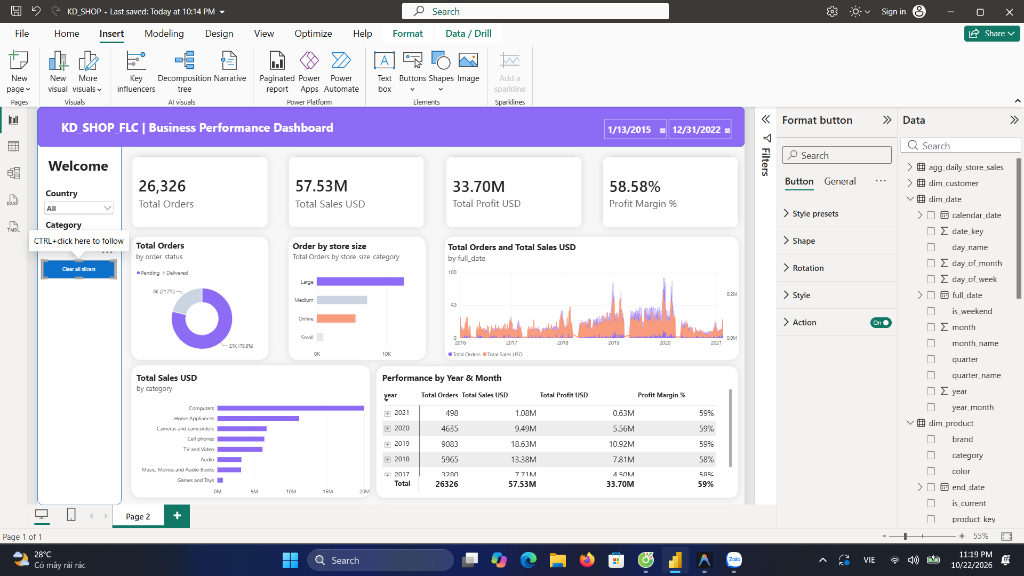

The page's visual inventory and layout, read from the dashboard file:
{"tool":"powerbi","page":{"name":"Business Performance","canvas":[1920,1080],"ordinal":0},"visuals":[{"type":"shape","box":[0,0,228.5,1080.6],"z":0},{"type":"shape","box":[0,0,1920.4,109.1],"z":1000},{"type":"cardVisual","fields":{"Data":["fact_sales.Total Orders"]},"box":[256,134,372,196],"z":2000},{"type":"cardVisual","fields":{"Data":["fact_sales.Total Sales USD"]},"box":[681.3,134,372,196],"z":3000},{"type":"cardVisual","fields":{"Data":["fact_sales.Total Profit USD"]},"box":[1106.7,134,372,196],"z":4000},{"type":"cardVisual","fields":{"Data":["fact_sales.Profit Margin %"]},"box":[1532,134,372,196],"z":5000},{"type":"donutChart","fields":{"Category":["fact_sales.order_status"],"Y":["fact_sales.Total Orders"]},"box":[256,352,372,334],"z":6000},{"type":"clusteredBarChart","title":"Order by store size","fields":{"Category":["dim_store.store_size_category"],"Y":["fact_sales.Total Orders"]},"box":[682,352,372,334],"z":7000},{"type":"lineClusteredColumnComboChart","fields":{"Category":["dim_date.full_date"],"Y":["fact_sales.Total Orders"],"Y2":["fact_sales.Total Sales USD"]},"box":[1106,352,798,334],"z":8000},{"type":"clusteredBarChart","fields":{"Category":["dim_product.category"],"Y":["fact_sales.Total Sales USD"]},"box":[256,702,648,358],"z":9000},{"type":"pivotTable","title":"Performance by Year & Month","fields":{"Rows":["dim_date.year","dim_date.month"],"Values":["fact_sales.Total Orders","fact_sales.Total Sales USD","fact_sales.Total Profit USD","fact_sales.Profit Margin %"]},"box":[920,704,984,358],"z":10000},{"type":"textbox","box":[14.3,134.6,214.1,65.2],"z":11000},{"type":"slicer","fields":{"Values":["dim_product.category"]},"box":[14.5,304,197.7,99.9],"z":12000},{"type":"slicer","fields":{"Values":["dim_store.country"]},"box":[14.5,219,197.3,97.7],"z":13000},{"type":"slicer","fields":{"Values":["dim_date.full_date"]},"box":[1531,28.5,371,81.5],"z":14000},{"type":"actionButton","box":[10.9,403.6,200,50],"z":15000}]}

Visuals, with their boxes on the page's 1920x1080 design canvas (x1, y1, x2, y2). These are canvas units, not pixel positions in the 1024x576 screenshot, which may show the page scaled, cropped or inside an application window:
shape: <region>0, 0, 228, 1081</region>
shape: <region>0, 0, 1920, 109</region>
cardVisual - fact_sales.Total Orders: <region>256, 134, 628, 330</region>
cardVisual - fact_sales.Total Sales USD: <region>681, 134, 1053, 330</region>
cardVisual - fact_sales.Total Profit USD: <region>1107, 134, 1479, 330</region>
cardVisual - fact_sales.Profit Margin %: <region>1532, 134, 1904, 330</region>
donutChart - fact_sales.order_status x fact_sales.Total Orders: <region>256, 352, 628, 686</region>
"Order by store size" clusteredBarChart: <region>682, 352, 1054, 686</region>
lineClusteredColumnComboChart - dim_date.full_date x fact_sales.Total Orders: <region>1106, 352, 1904, 686</region>
clusteredBarChart - dim_product.category x fact_sales.Total Sales USD: <region>256, 702, 904, 1060</region>
"Performance by Year & Month" pivotTable: <region>920, 704, 1904, 1062</region>
textbox: <region>14, 135, 228, 200</region>
slicer - dim_product.category: <region>14, 304, 212, 404</region>
slicer - dim_store.country: <region>14, 219, 212, 317</region>
slicer - dim_date.full_date: <region>1531, 28, 1902, 110</region>
actionButton: <region>11, 404, 211, 454</region>
